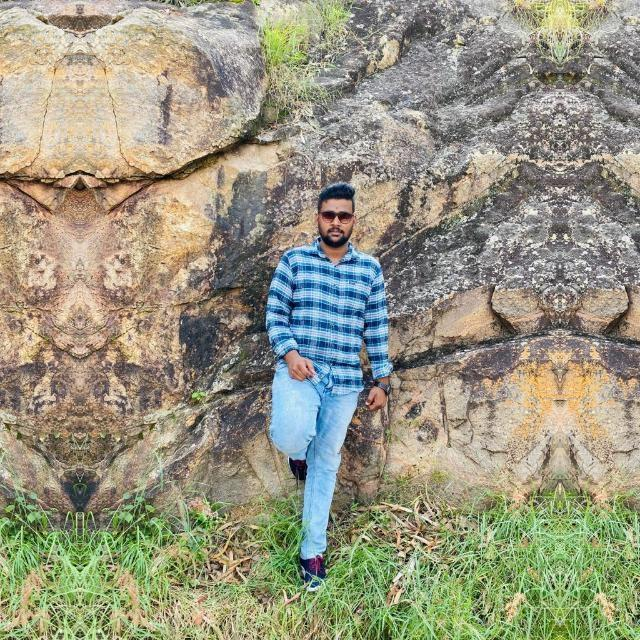person: (264, 162, 372, 516)
